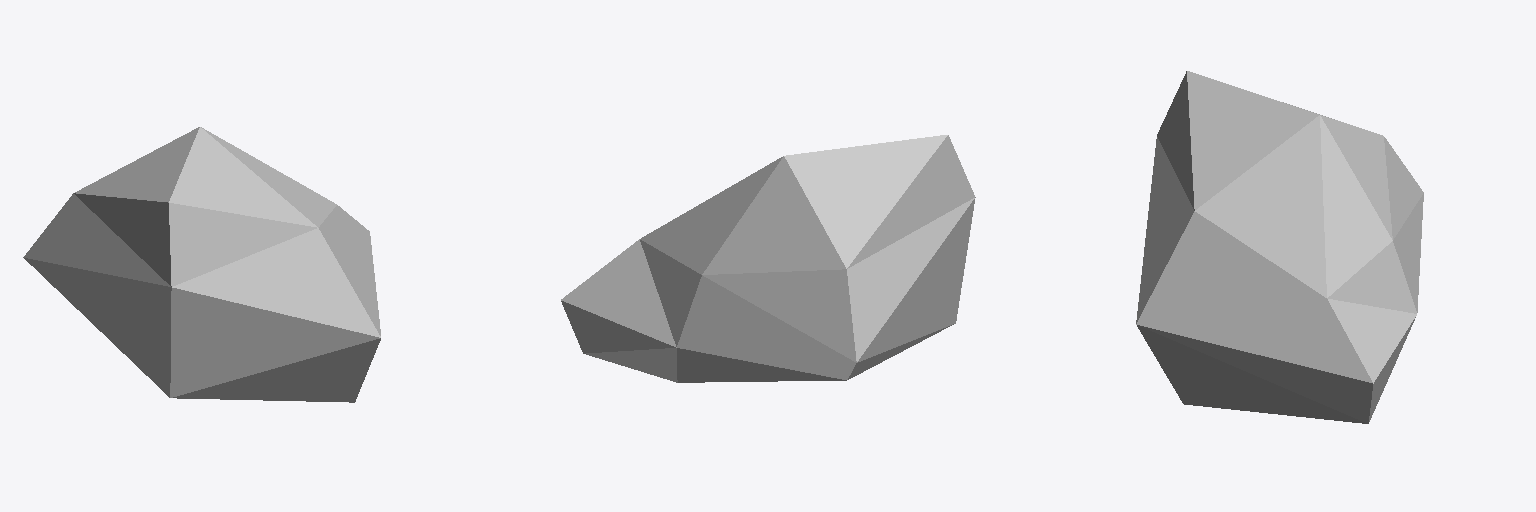
Rendered from stone1.obj.
The picture shows the model from 3 angles: view 1: azimuth 30°, elevation 25°; view 2: azimuth 150°, elevation 25°; view 3: azimuth 270°, elevation 25°; orthographic projection.
Visible parts, largest first — view 1: polySurface15 pSphere9; view 2: polySurface15 pSphere9; view 3: polySurface15 pSphere9.
Part boxes in pixels (x1,y1,x2,y2): polySurface15 pSphere9: (23, 127, 380, 402); polySurface15 pSphere9: (561, 135, 975, 382); polySurface15 pSphere9: (1136, 71, 1423, 423).
Size of the model in its own units: 5.69 by 4.18 by 4.41.